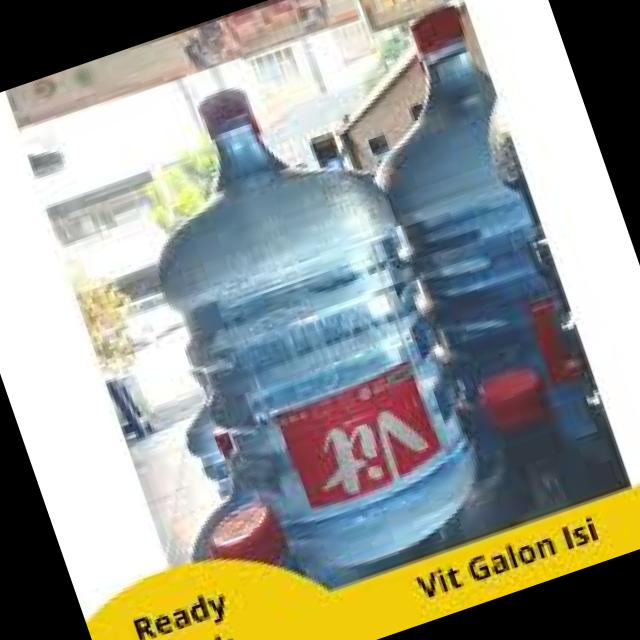Galon: (53, 39, 516, 622)
